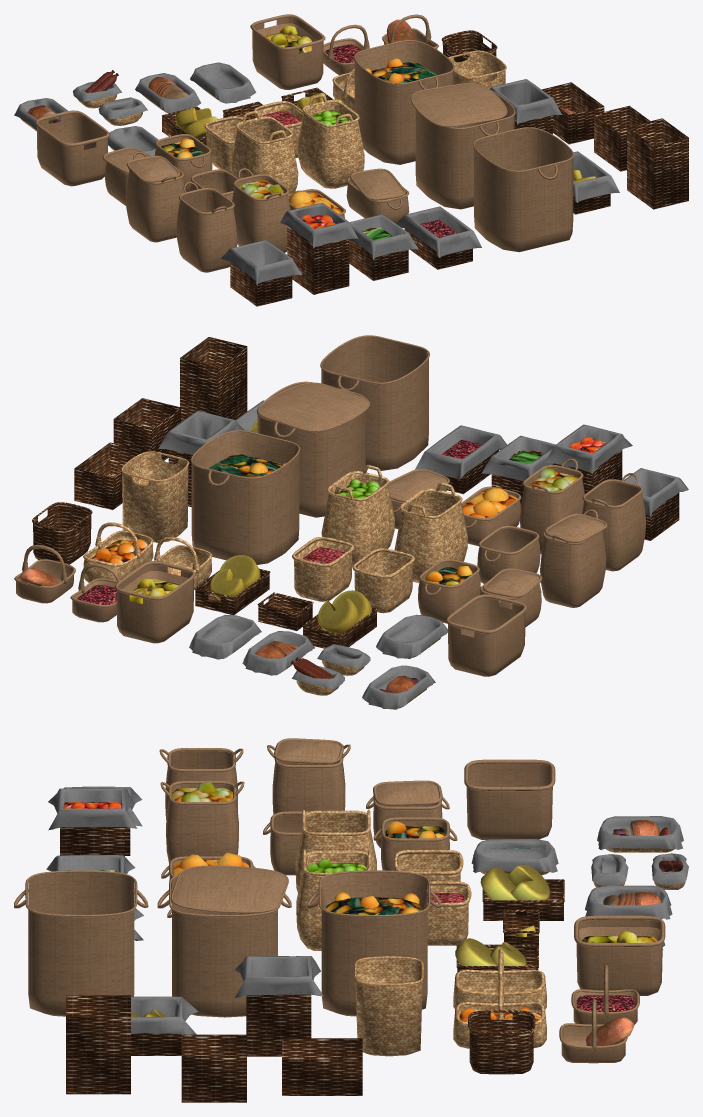
File: fruit-baskets.glb
The picture shows the model from 3 angles, top to bottom: view 1: azimuth 30°, elevation 25°; view 2: azimuth 150°, elevation 25°; view 3: azimuth 270°, elevation 25°; orthographic projection. The views are drawn at different scales.
Visible parts, largest first — view 1: baskets_low.063, baskets_low.023, baskets_low.062, baskets_low.019, baskets_low.057, baskets_low.013, baskets_low.005, baskets_low.066, baskets_low.054, baskets_low.060, baskets_low.016, baskets_low.051 (+31 smaller); view 2: baskets_low.023, baskets_low.063, baskets_low.062, baskets_low.066, baskets_low.005, baskets_low.010, baskets_low.013, baskets_low.057, baskets_low.060, baskets_low.053, baskets_low.054, rims02_low.005 (+31 smaller); view 3: baskets_low.063, baskets_low.023, baskets_low.062, baskets_low.066, baskets_low.052, baskets_low.005, baskets_low.057, baskets_low.010, baskets_low.016, baskets_low.019, rims02_low.005, baskets_low.059 (+29 smaller).
Boxes of the visible parts, bbox=[...] form: baskets_low.063: bbox=[473, 127, 573, 252]; baskets_low.023: bbox=[354, 40, 454, 164]; baskets_low.062: bbox=[415, 90, 515, 209]; baskets_low.019: bbox=[280, 202, 358, 294]; baskets_low.057: bbox=[627, 118, 688, 209]; baskets_low.013: bbox=[297, 94, 364, 188]; baskets_low.005: bbox=[250, 14, 325, 89]; baskets_low.066: bbox=[35, 110, 109, 186]; baskets_low.054: bbox=[176, 181, 237, 272]; baskets_low.060: bbox=[230, 110, 298, 194]; baskets_low.016: bbox=[232, 168, 290, 252]; baskets_low.051: bbox=[221, 239, 301, 306]; baskets_low.023: bbox=[190, 430, 300, 564]; baskets_low.063: bbox=[320, 335, 429, 470]; baskets_low.062: bbox=[256, 381, 365, 517]; baskets_low.066: bbox=[446, 594, 527, 676]; baskets_low.005: bbox=[114, 561, 195, 643]; baskets_low.010: bbox=[121, 451, 189, 542]; baskets_low.013: bbox=[321, 465, 394, 567]; baskets_low.057: bbox=[180, 337, 247, 421]; baskets_low.060: bbox=[394, 482, 467, 582]; baskets_low.053: bbox=[540, 509, 606, 607]; baskets_low.054: bbox=[582, 473, 646, 571]; rims02_low.005: bbox=[257, 382, 370, 432]; baskets_low.063: bbox=[14, 870, 148, 1016]; baskets_low.023: bbox=[307, 870, 441, 1016]; baskets_low.062: bbox=[157, 874, 291, 1017]; baskets_low.066: bbox=[464, 759, 555, 839]; baskets_low.052: bbox=[234, 956, 323, 1056]; baskets_low.005: bbox=[574, 915, 665, 995]; baskets_low.057: bbox=[66, 995, 130, 1094]; baskets_low.010: bbox=[354, 956, 423, 1056]; baskets_low.016: bbox=[160, 781, 244, 863]; baskets_low.019: bbox=[48, 788, 137, 855]; rims02_low.005: bbox=[170, 865, 288, 913]; baskets_low.059: bbox=[282, 1038, 362, 1095].
Size of the model in its own units: 541 by 102 by 542.
2 materials, 2 textured.
